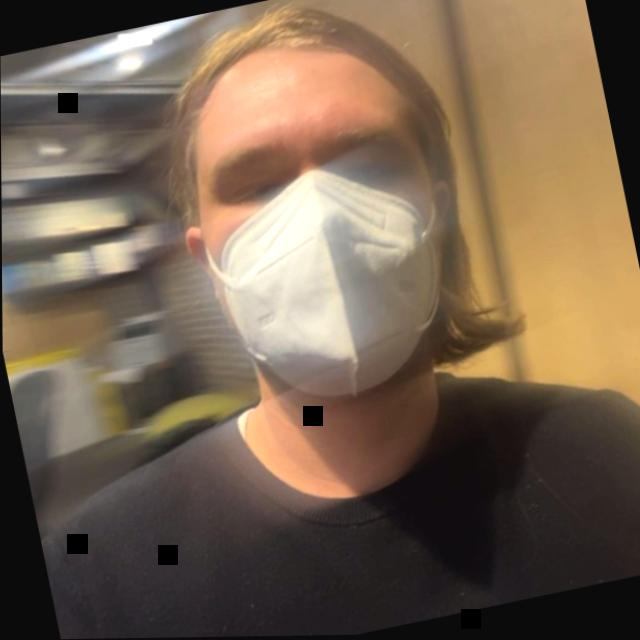Mask: (84, 0, 517, 432)
